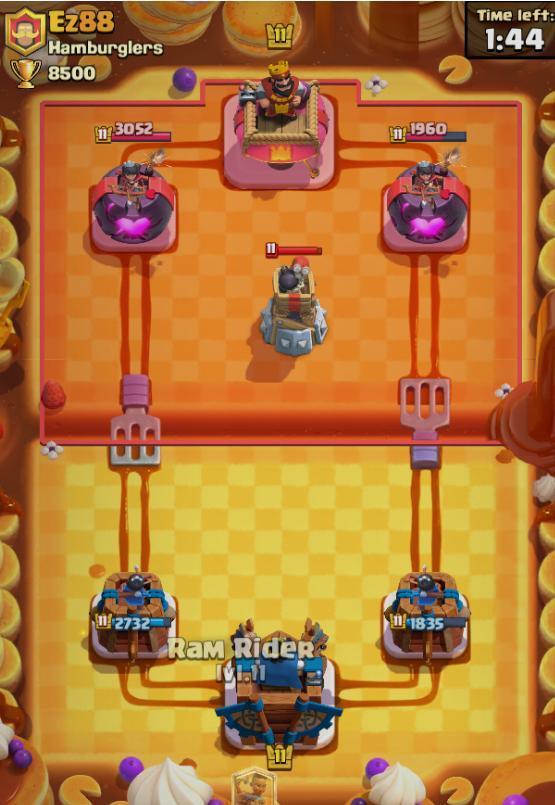EBombertower: (259, 257, 327, 356)
EKingTower: (223, 61, 333, 189)
EnemyPrincessTower: (382, 162, 469, 253), (90, 160, 175, 253)
OwnKingTower: (223, 624, 339, 750)
OwnPrincessTower: (382, 571, 469, 662), (91, 571, 176, 661)
